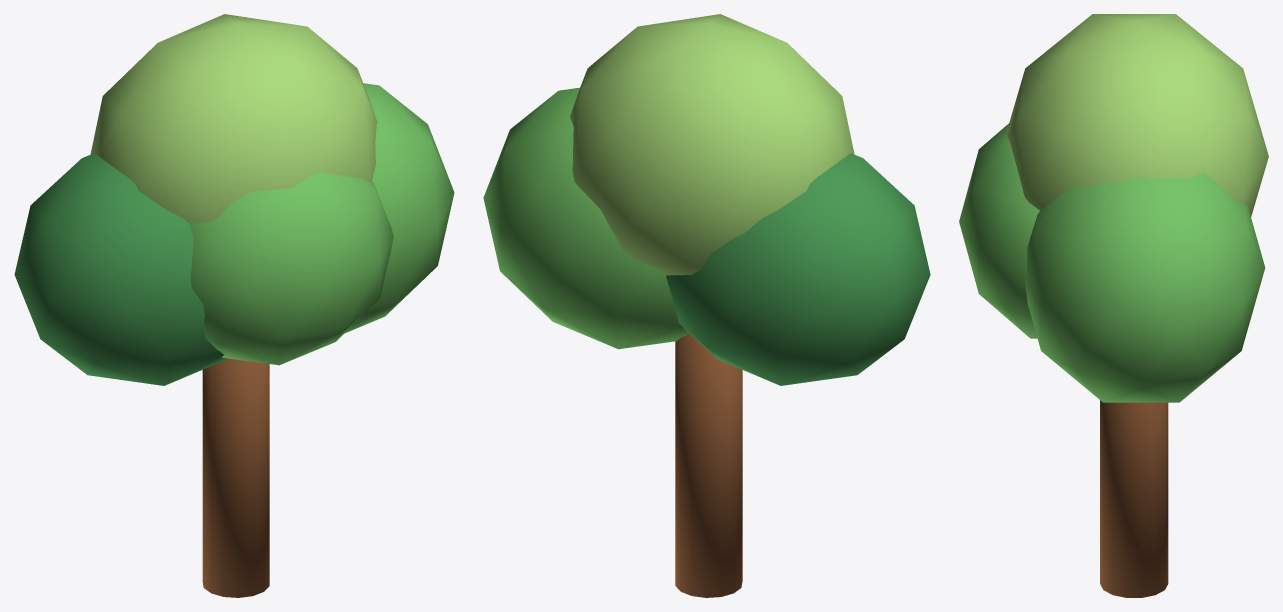
File: LakesideBroadleafHiFi.fbx
The picture shows the model from 3 angles, left to right: view 1: azimuth 30°, elevation 25°; view 2: azimuth 150°, elevation 25°; view 3: azimuth 270°, elevation 25°; orthographic projection.
Visible parts, largest first — view 1: MobileBroadleaf_Crown, MobileBroadleaf_Left, MobileBroadleaf_Front, MobileBroadleaf_Trunk, MobileBroadleaf_Right; view 2: MobileBroadleaf_Crown, MobileBroadleaf_Left, MobileBroadleaf_Right, MobileBroadleaf_Trunk; view 3: MobileBroadleaf_Right, MobileBroadleaf_Crown, MobileBroadleaf_Trunk, MobileBroadleaf_Front.
Part boxes in pixels (box(x1,y1,x2,y2)): MobileBroadleaf_Crown: box(90, 14, 377, 223); MobileBroadleaf_Left: box(14, 153, 227, 385); MobileBroadleaf_Front: box(189, 172, 393, 365); MobileBroadleaf_Trunk: box(202, 358, 269, 597); MobileBroadleaf_Right: box(344, 83, 454, 333); MobileBroadleaf_Crown: box(570, 14, 854, 275); MobileBroadleaf_Left: box(666, 153, 930, 385); MobileBroadleaf_Right: box(483, 87, 689, 349); MobileBroadleaf_Trunk: box(675, 334, 742, 597); MobileBroadleaf_Right: box(1024, 173, 1265, 402); MobileBroadleaf_Crown: box(1006, 14, 1268, 216); MobileBroadleaf_Trunk: box(1100, 400, 1168, 597); MobileBroadleaf_Front: box(959, 123, 1039, 338).
Size of the model in its own units: 5.24 by 6.9 by 3.45.
